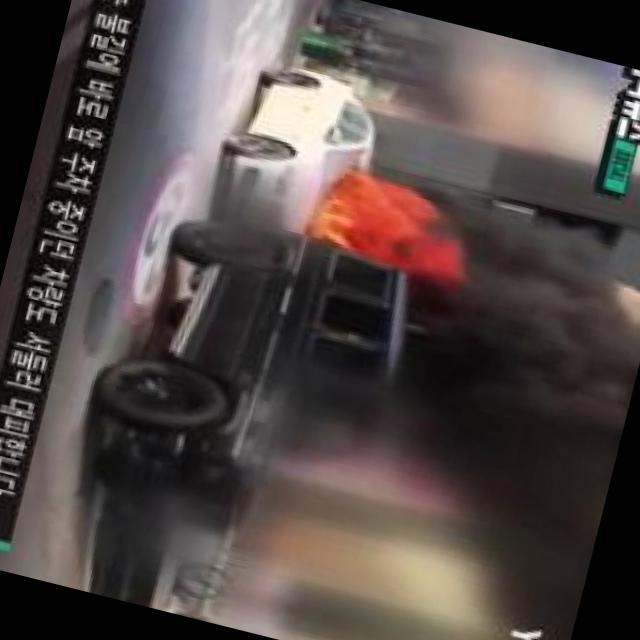Fire: (309, 180, 461, 280)
